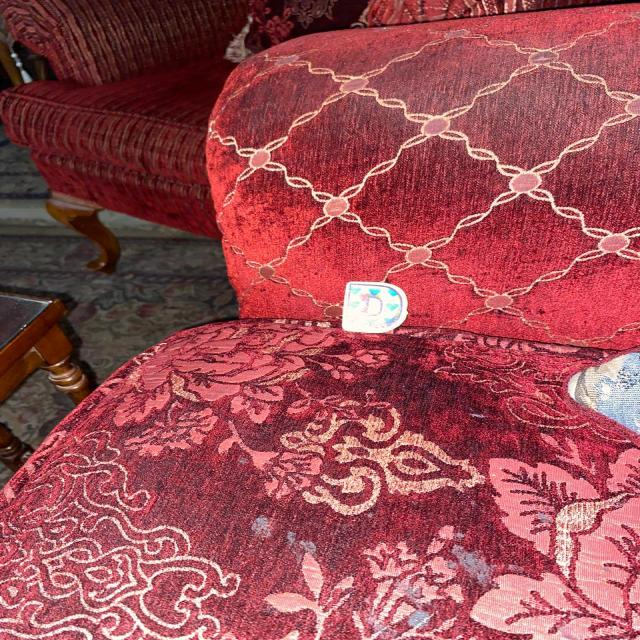D: (342, 281, 408, 333)
